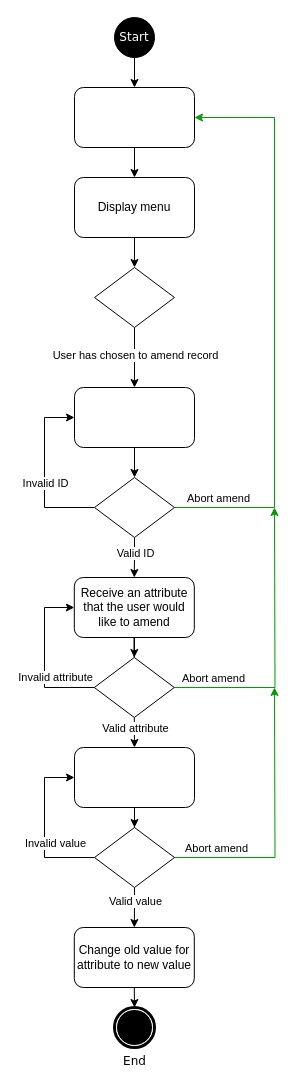
The diagram is 300 pixels wide and 1086 high, and some of its shapes have lost their labels. The shapes that lost their labels are listed below. From the top down, each one's centre as x and y in pixels, then its label:
[134,117]: Display table of clients
[134,417]: Recieve a client ID to amend record values
[134,777]: Receive replacement value
